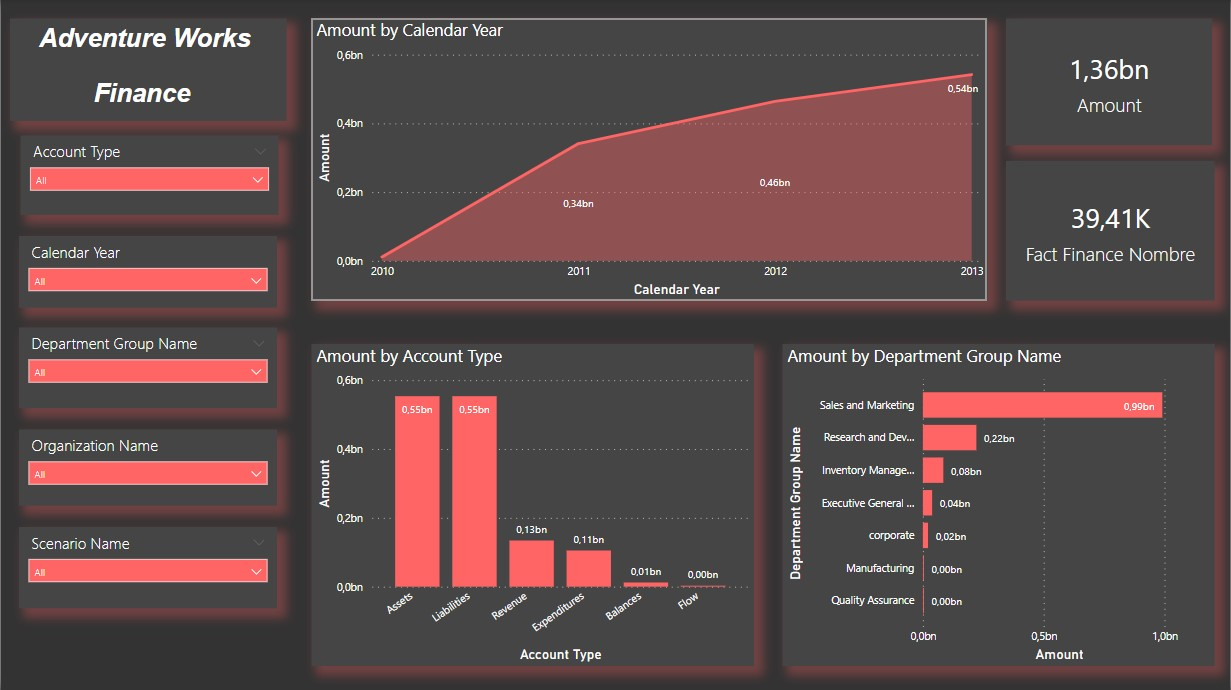

What the dashboard file says about the page in this screenshot:
{"tool":"powerbi","page":{"name":"Page 1","canvas":[1280,720],"ordinal":0},"visuals":[{"type":"clusteredBarChart","fields":{"Category":["Dim Department Group.Department Group Name"],"Y":["Fact Finance.Amount"]},"box":[813.8,359.2,449.8,335.4],"z":0},{"type":"card","fields":{"Values":["Fact Finance.Amount"]},"box":[1045.8,20.7,214.6,131.9],"z":1000},{"type":"card","fields":{"Values":["Fact Finance.Fact Finance Nombre"]},"box":[1046.4,168.7,217.1,145.2],"z":2000},{"type":"columnChart","fields":{"Y":["Fact Finance.Amount"],"Category":["Dim Account.Account Type"]},"box":[322.6,359.2,460.9,335.4],"z":3000},{"type":"stackedAreaChart","fields":{"Category":["Dim Date Hierarchy.Calendar Year"],"Y":["Fact Finance.Amount"]},"box":[322.6,20.7,704.1,294],"z":4000},{"type":"textbox","box":[9.5,20.7,287.7,106.5],"z":5000},{"type":"slicer","fields":{"Values":["Dim Account.Account Type"]},"box":[20.7,141.5,268.6,82.6],"z":6000},{"type":"slicer","fields":{"Values":["Dim Date Hierarchy.Calendar Year"]},"box":[19.1,246.4,268.6,74.7],"z":7000},{"type":"slicer","fields":{"Values":["Dim Department Group.Department Group Name"]},"box":[19.1,341.7,268.6,84.2],"z":8000},{"type":"slicer","fields":{"Values":["Dim Organization.Organization Name"]},"box":[19.1,448.2,268.6,79.5],"z":9000},{"type":"slicer","fields":{"Values":["Dim Scenario.Scenario Name"]},"box":[18.7,549.8,268.6,84.3],"z":10000}]}

Visuals, with their boxes in screenshot pixels (x1, y1, x2, y2), scaled from the page's 1280x720 canvas onto the 1231x690 screenshot:
clusteredBarChart - Dim Department Group.Department Group Name x Fact Finance.Amount: Rect(783, 344, 1215, 666)
card - Fact Finance.Amount: Rect(1006, 20, 1212, 146)
card - Fact Finance.Fact Finance Nombre: Rect(1006, 162, 1215, 301)
columnChart - Fact Finance.Amount x Dim Account.Account Type: Rect(310, 344, 754, 666)
stackedAreaChart - Dim Date Hierarchy.Calendar Year x Fact Finance.Amount: Rect(310, 20, 987, 302)
textbox: Rect(9, 20, 286, 122)
slicer - Dim Account.Account Type: Rect(20, 136, 278, 215)
slicer - Dim Date Hierarchy.Calendar Year: Rect(18, 236, 277, 308)
slicer - Dim Department Group.Department Group Name: Rect(18, 327, 277, 408)
slicer - Dim Organization.Organization Name: Rect(18, 430, 277, 506)
slicer - Dim Scenario.Scenario Name: Rect(18, 527, 276, 608)
